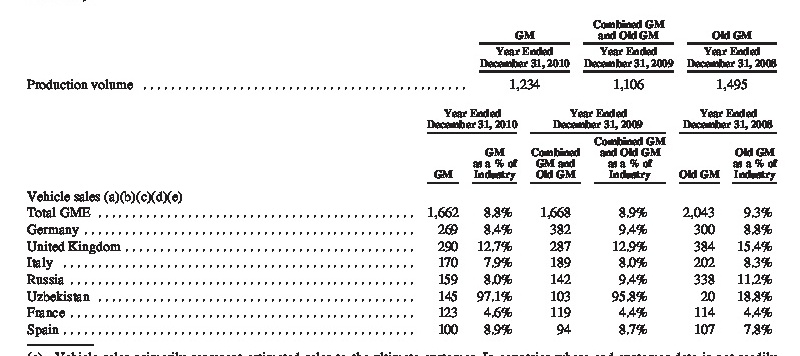table: (0, 0, 800, 356)
